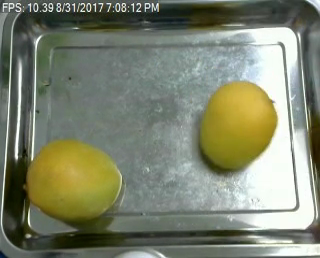Mango: (26, 140, 125, 217), (197, 81, 276, 168)
